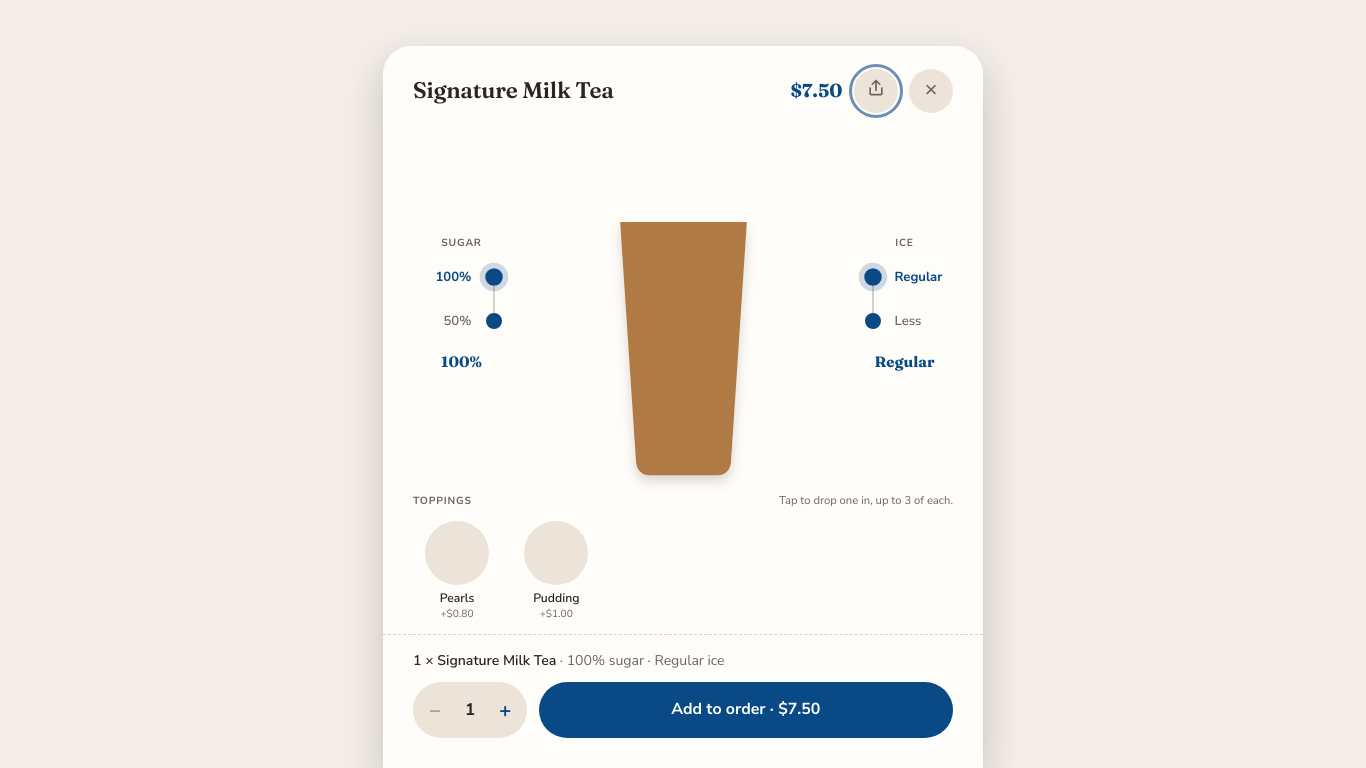
Test: CustomiseDrinkDialog › more than one of a topping › adds another lot on each tap, prices every lot, and shows the count
Step 1. Click the button with aria-label "Add Pearls" → (457, 570), box [413,517,501,622]
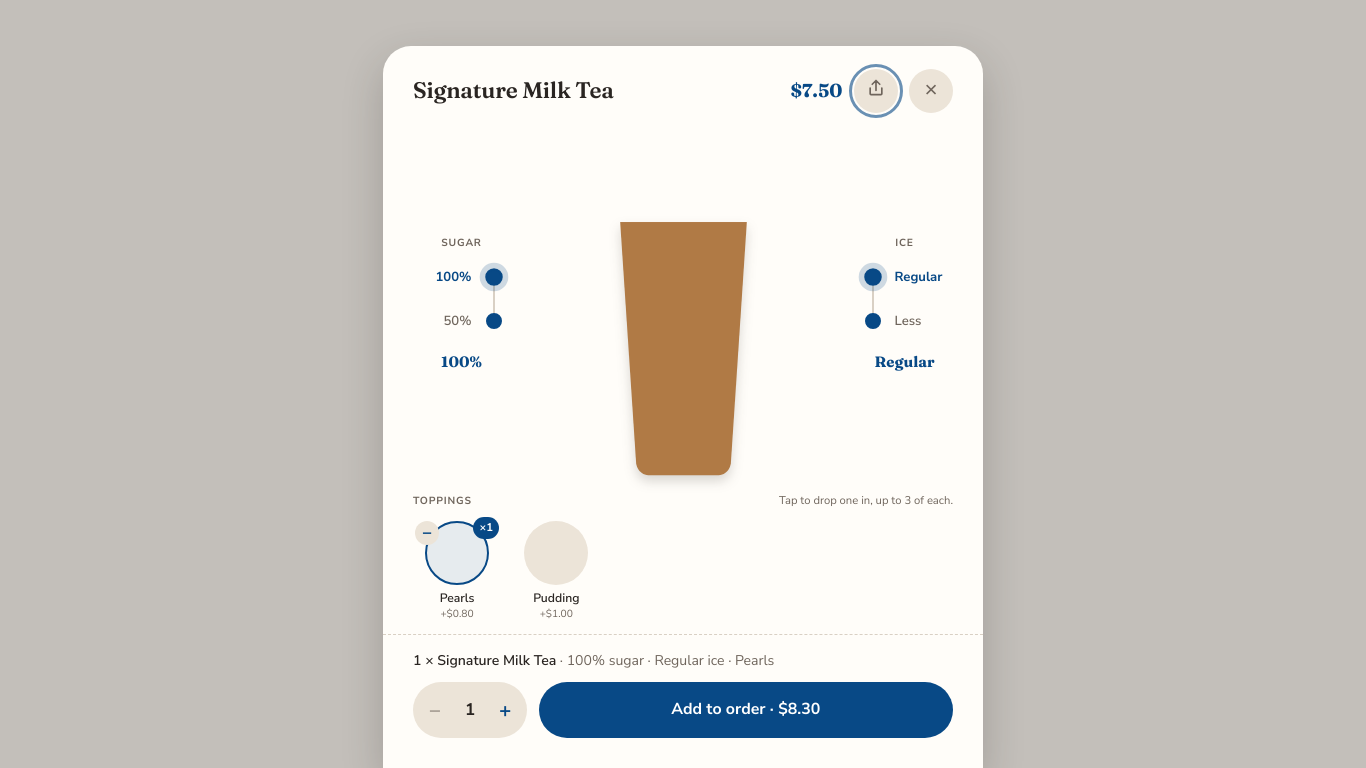
Step 2. Click the button with aria-label "Add Pearls" → (457, 570), box [413,517,501,622]
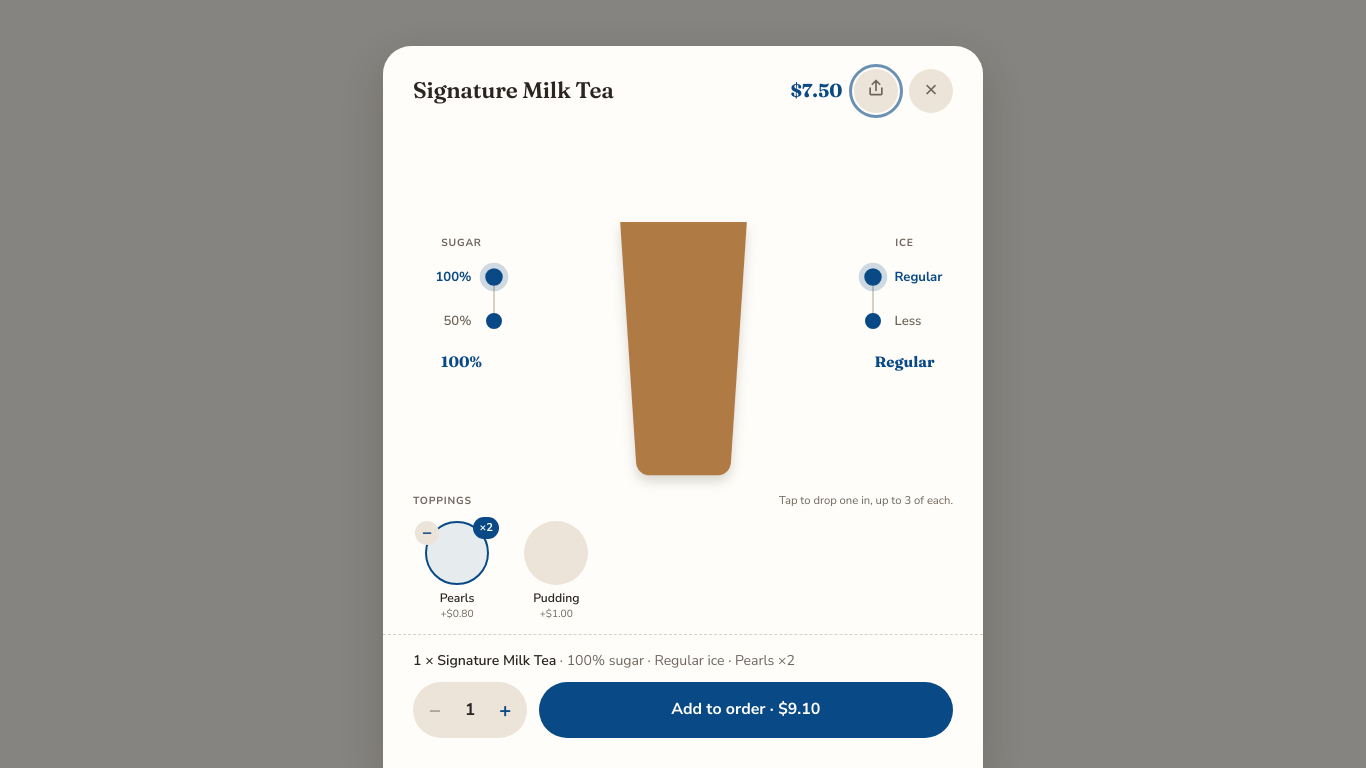
Expected: the button "Add to order · $9.10" is shown, [538,682,953,738]
Expected: the element named "Order summary" shows "Pearls ×2", [567,651,795,670]
